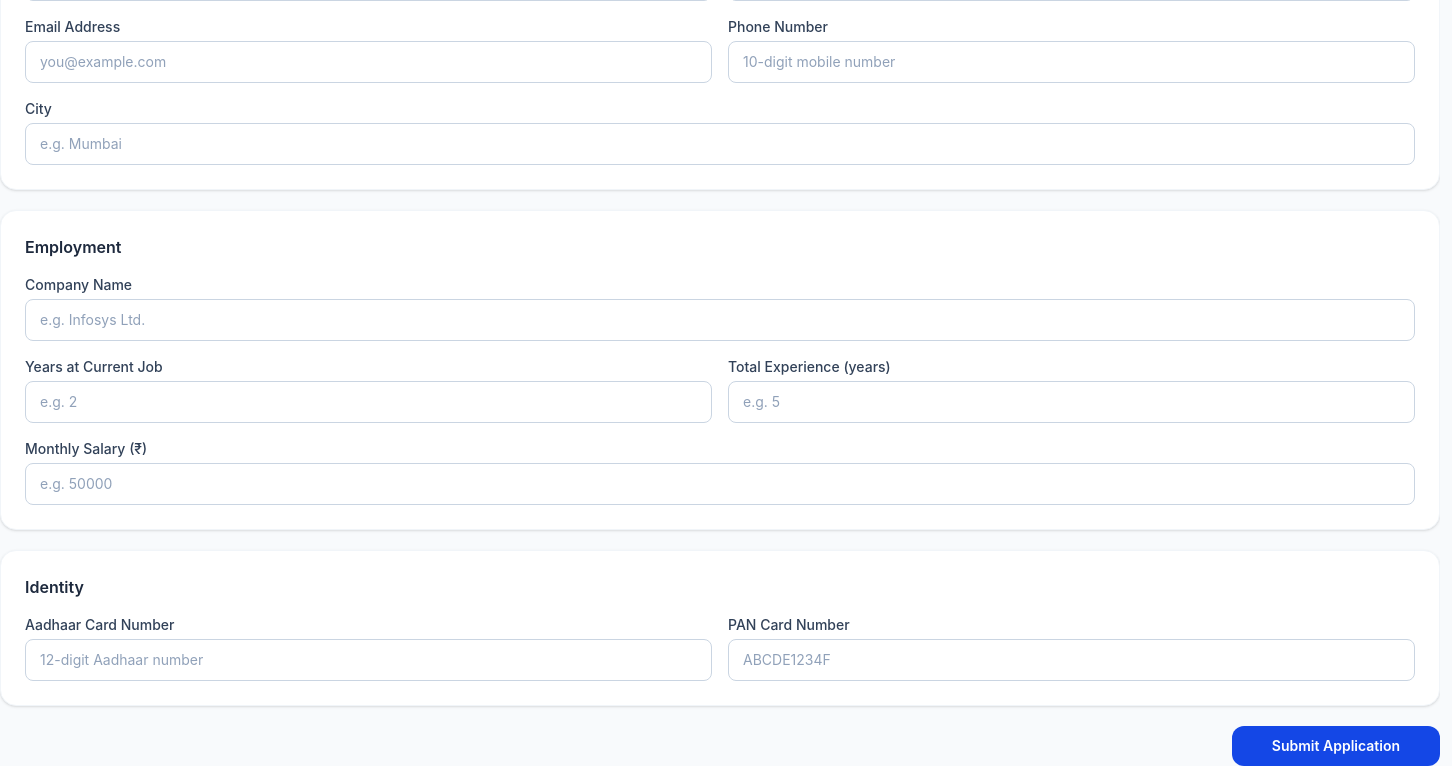
ApplyCard page › shows PAN validation error for invalid PAN
This screenshot has width=1452, height=766.
(page scrolled)
Type "invalid" into the field labelled "PAN Card Number". click: [1072, 660]
box: [728,639,1415,681]
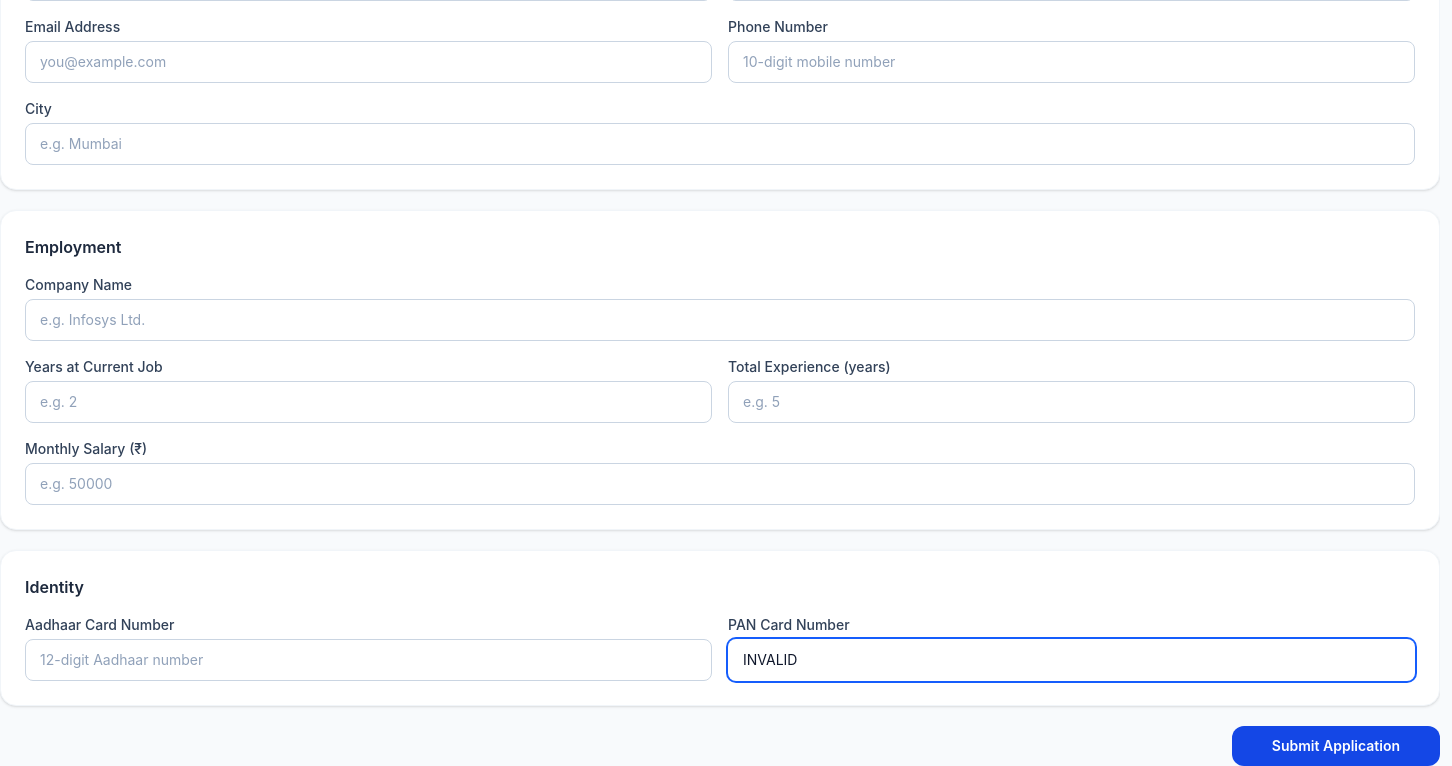
Click the button "Submit Application". click: [1336, 746]
box: [1232,726,1440,765]
(page scrolled)
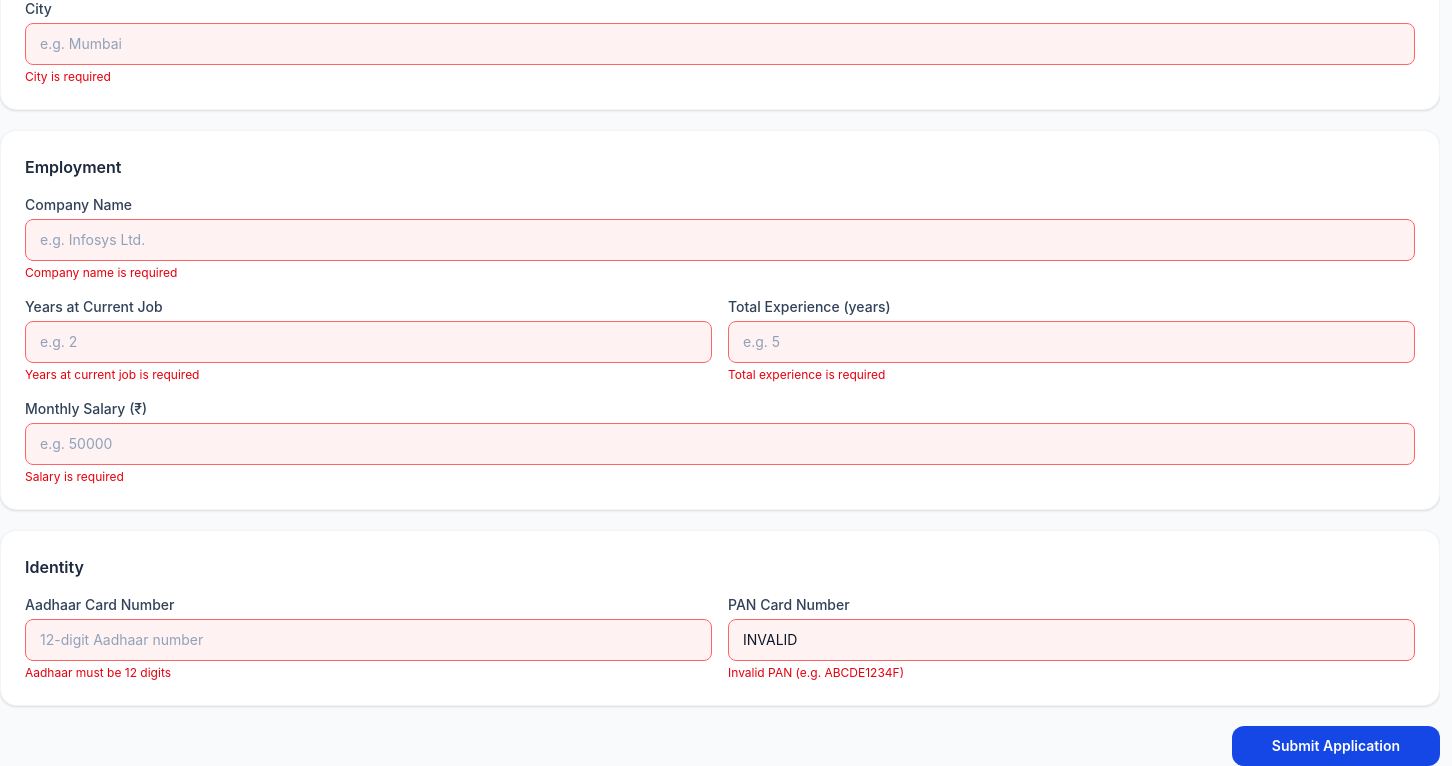
Now the text "Invalid PAN (e.g. ABCDE1234F)" is shown, box [728,665,904,680]
